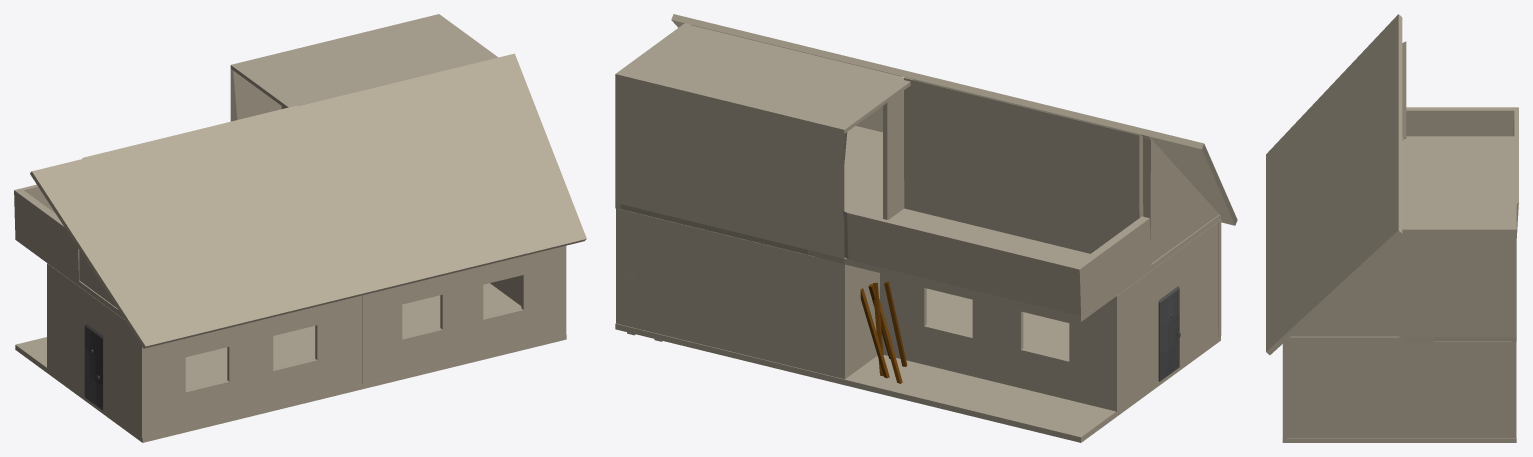
Rendered from дом (4).fbx.
3 views of the same model, side by side, from view 1: azimuth 30°, elevation 25°; view 2: azimuth 150°, elevation 25°; view 3: azimuth 270°, elevation 25° (orthographic). The views are drawn at different scales.
Visible parts, largest first — view 1: Куб.022, Куб; view 2: Куб.022, Куб.005, Куб; view 3: Куб.022.
Part boxes in pixels (box(x1,y1,x2,y2)): Куб.022: box(14, 14, 586, 442); Куб: box(84, 324, 103, 410); Куб.022: box(615, 14, 1237, 442); Куб.005: box(860, 281, 907, 383); Куб: box(1158, 286, 1180, 381); Куб.022: box(1266, 14, 1518, 442).
Bounding box in the file's own units: 3219 × 1543 × 1590.
